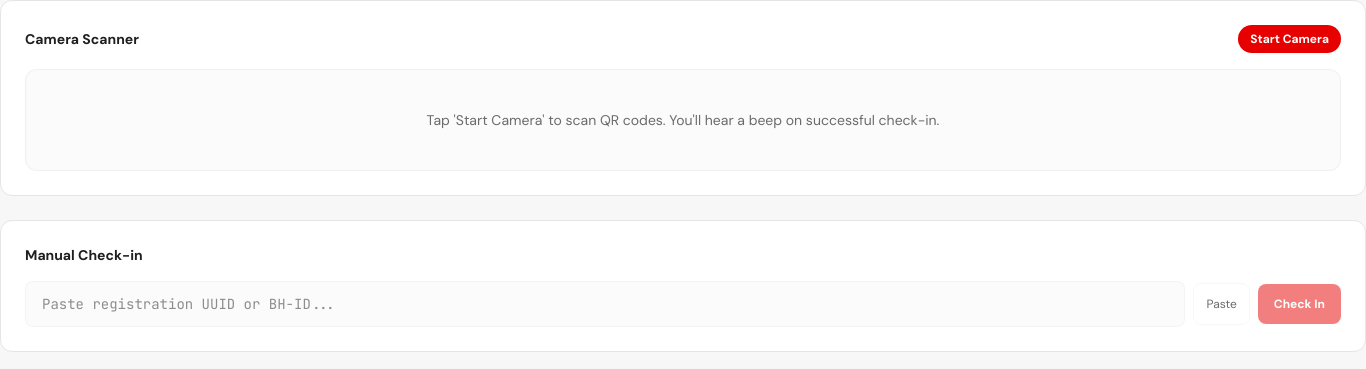
it: QrScannerClient › camera error state › shows permission denied message when getUserMedia throws NotAllowedError
Click the button "Start Camera" at (1290, 39), box left=1238, top=25, right=1341, bottom=53
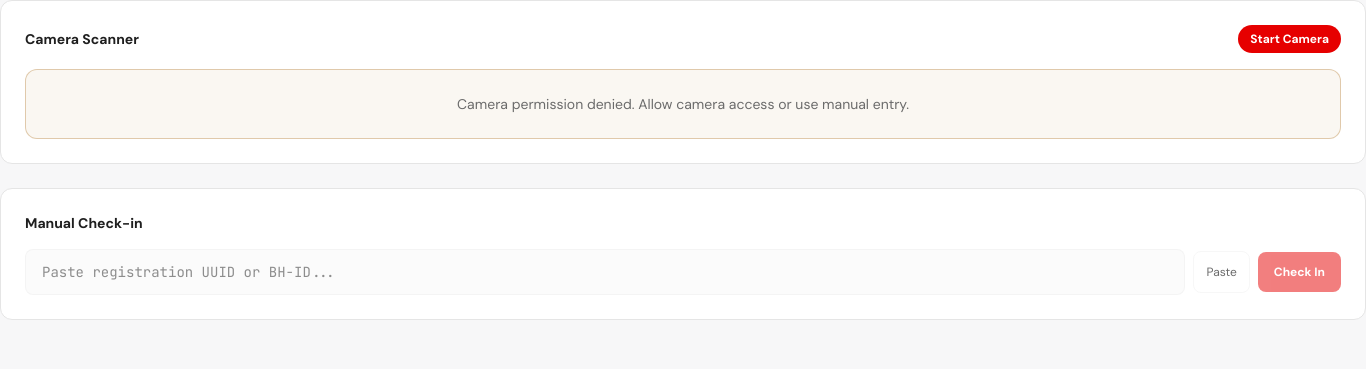
Expected: the text "Camera permission denied. Allow camera access or use manual entry." is shown, left=457, top=95, right=909, bottom=113
